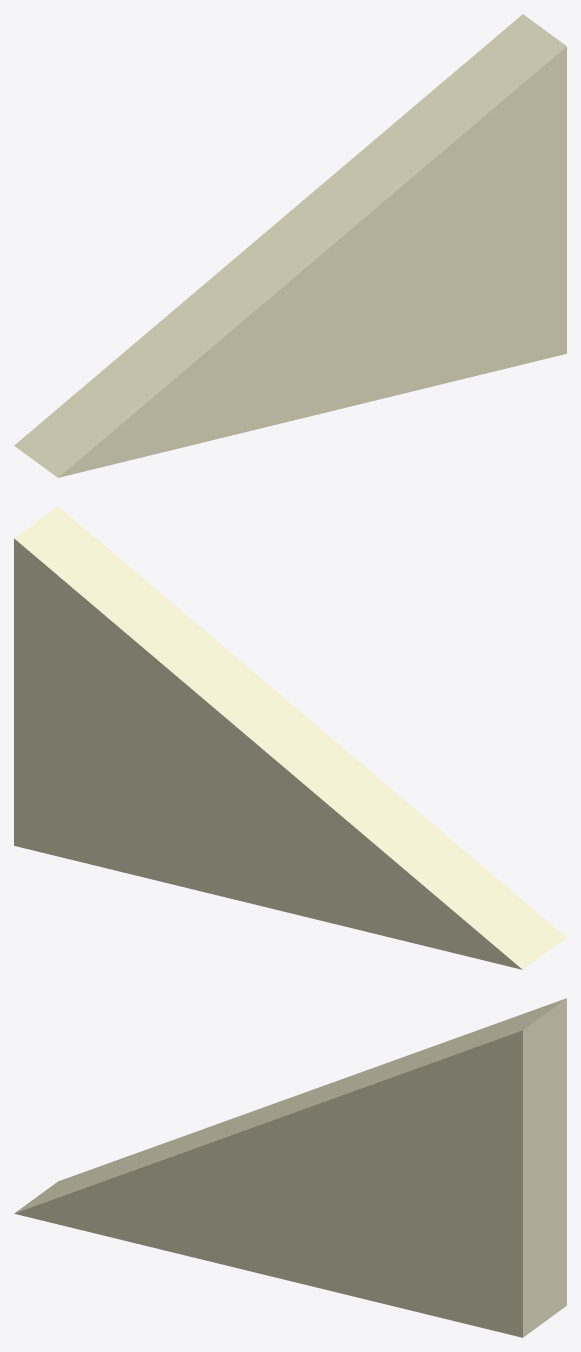
Rendered from Wall_Roof_30.glb.
3 views of the same model, one above another, from view 1: azimuth 30°, elevation 25°; view 2: azimuth 150°, elevation 25°; view 3: azimuth 330°, elevation 25° (orthographic).
Parts seen in each view (by area): view 1: Wall Roof 30; view 2: Wall Roof 30; view 3: Wall Roof 30.
Part boxes in pixels (<box>): Wall Roof 30: <box>14,14,566,477</box>; Wall Roof 30: <box>14,506,566,969</box>; Wall Roof 30: <box>14,998,566,1337</box>.
Bounding box in the file's own units: 2 × 1.15 × 0.3.
